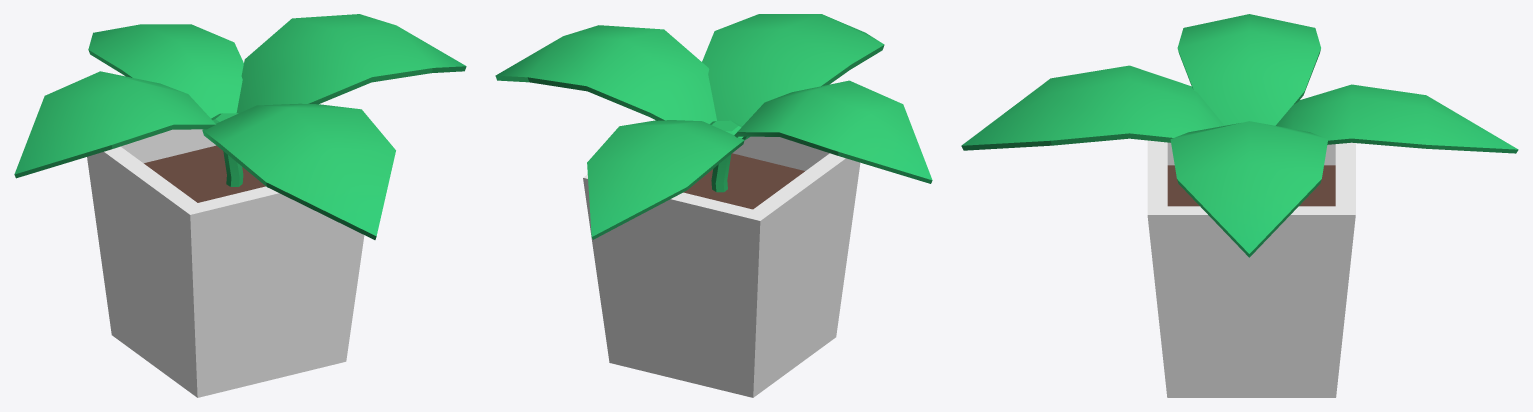
File: Plant1 LV1.fbx
3 views of the same model, side by side, from view 1: azimuth 30°, elevation 25°; view 2: azimuth 150°, elevation 25°; view 3: azimuth 270°, elevation 25° (orthographic). The views are drawn at different scales.
Parts seen in each view (by area): view 1: Plant_LV1; view 2: Plant_LV1; view 3: Plant_LV1.
Part boxes in pixels (<box>): Plant_LV1: <box>14,14,466,397</box>; Plant_LV1: <box>495,14,932,397</box>; Plant_LV1: <box>961,14,1518,397</box>.
Bounding box in the file's own units: 89.3 × 55.67 × 96.96.
